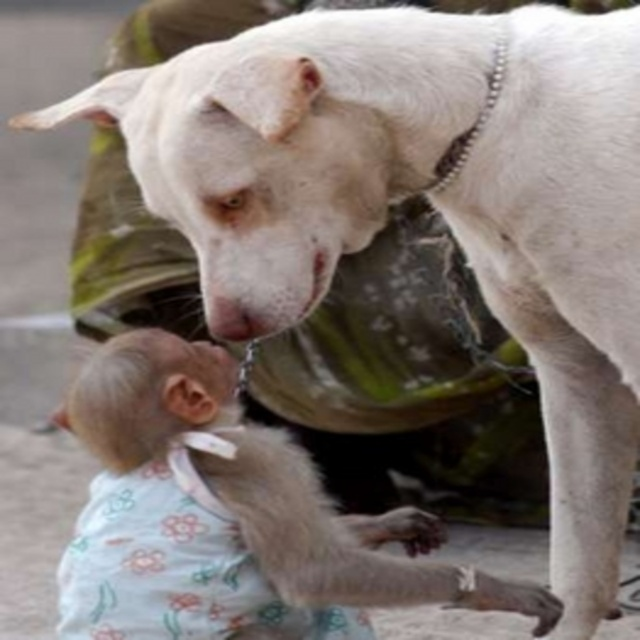Monkey: (52, 329, 566, 640)
